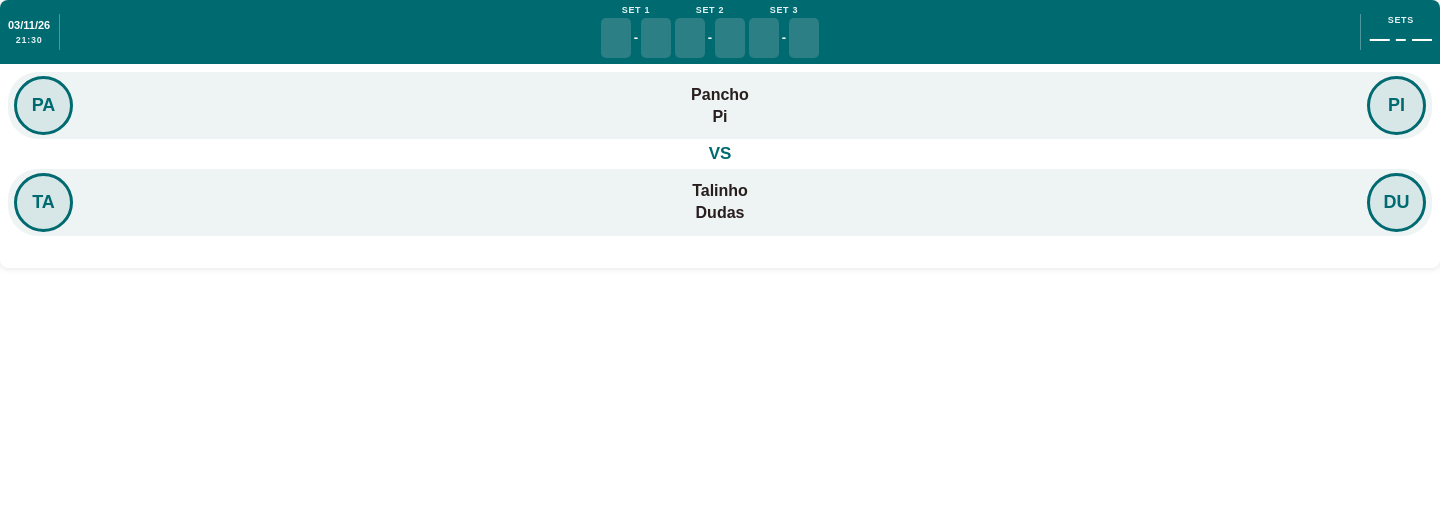
Test case: ResultCard › tap a player → ✕ → the "ele não veio" panel
The image size is (1440, 509).
Click the button "Pancho" at (720, 95), box [685,84,755,106]
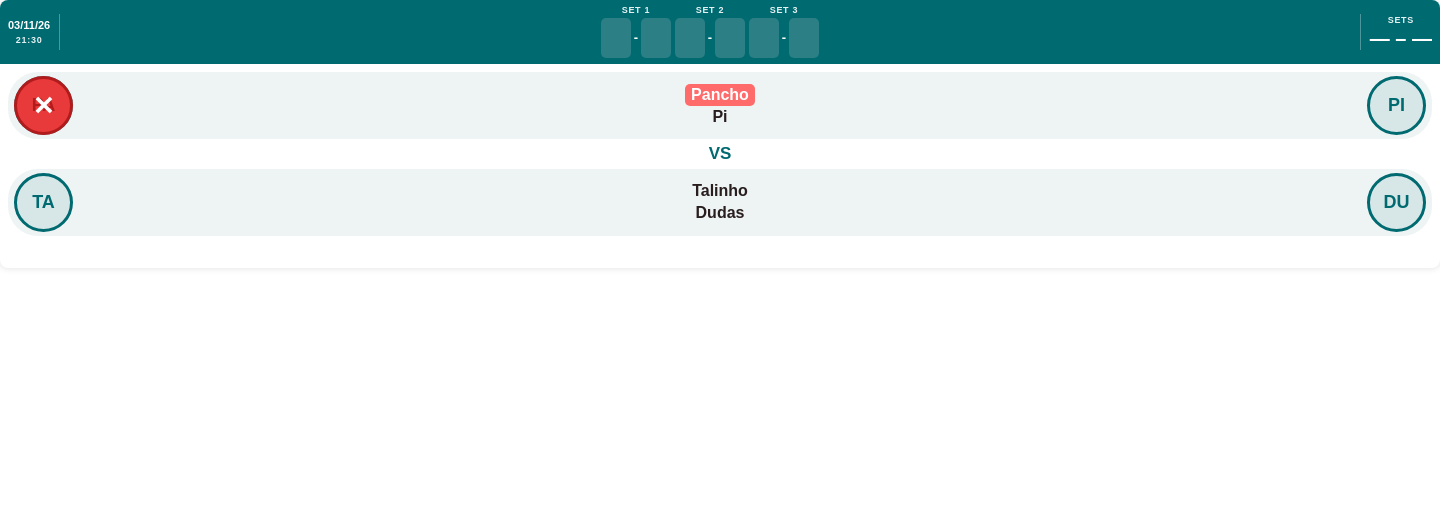
Click the button named "Pancho não veio" at (44, 106), box [14,76,73,135]
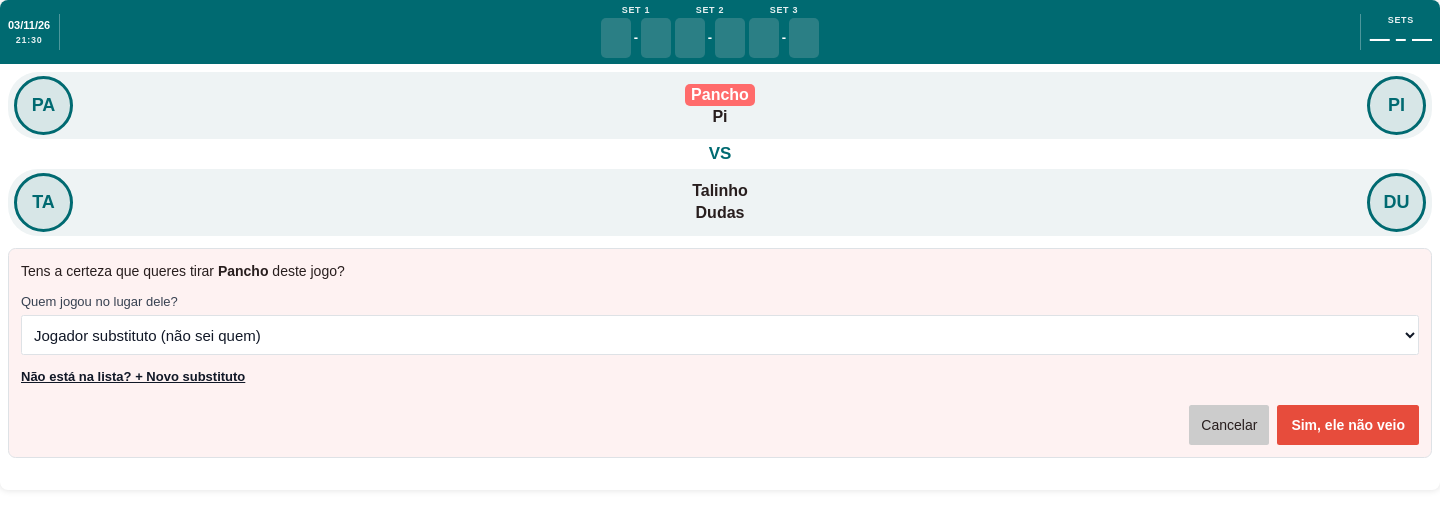
Result: the text "Tens a certeza que queres tirar Pancho deste jogo?" is shown at [21,262,345,278]
Result: the button "Sim, ele não veio" is shown at [1277,405,1419,445]
